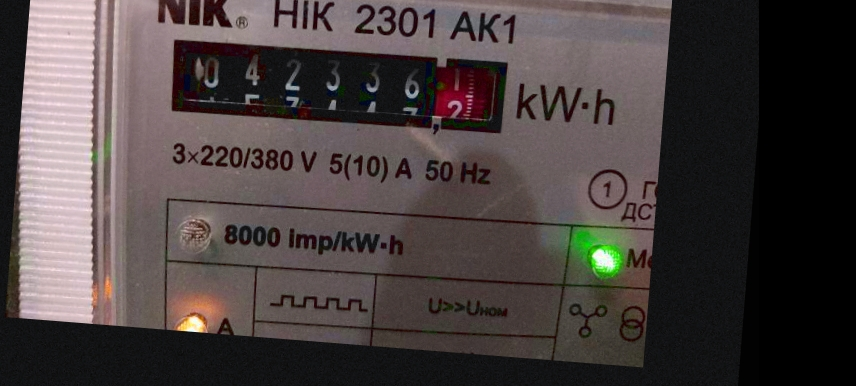0: (200, 52, 222, 89)
1: (448, 63, 463, 93)
2: (281, 55, 303, 92), (443, 97, 464, 119)
3: (322, 54, 344, 93), (360, 57, 383, 94)
4: (241, 49, 263, 87)
6: (398, 63, 423, 100)
screen: (159, 24, 517, 145)
